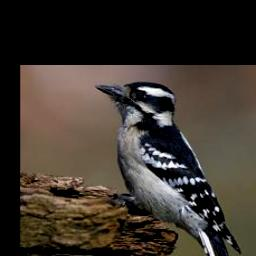Woodpecker: (95, 78, 243, 256)
